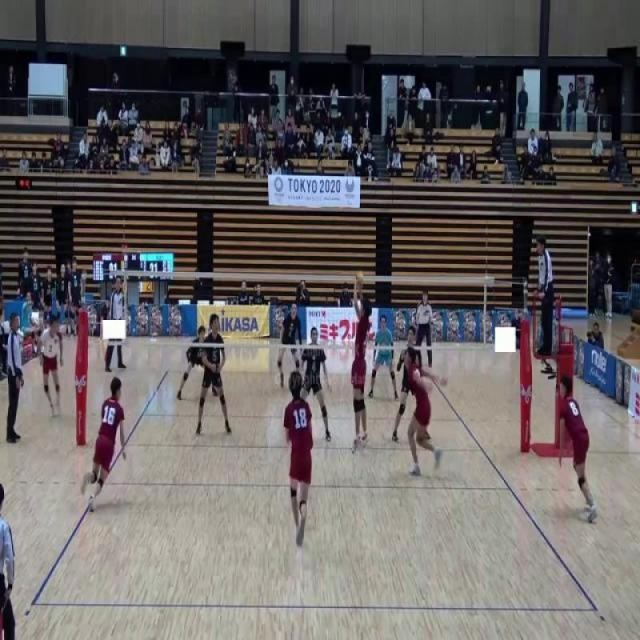volleyball: (356, 271, 364, 284)
